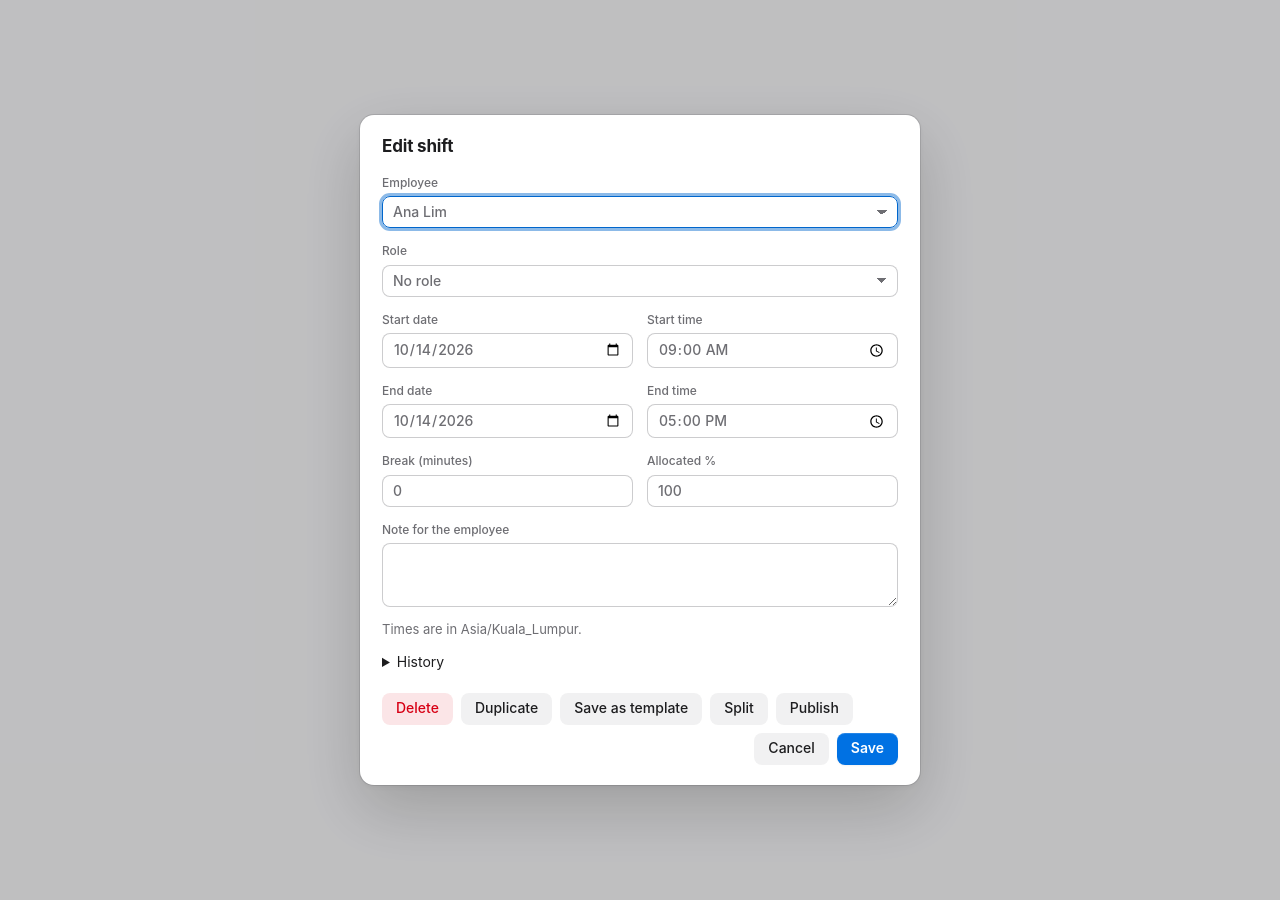
Scenario: ShiftDialog › saves the current shift as a template without closing the dialog
Click the button "Save as template". click: click(631, 708)
box: [560,692,702,724]
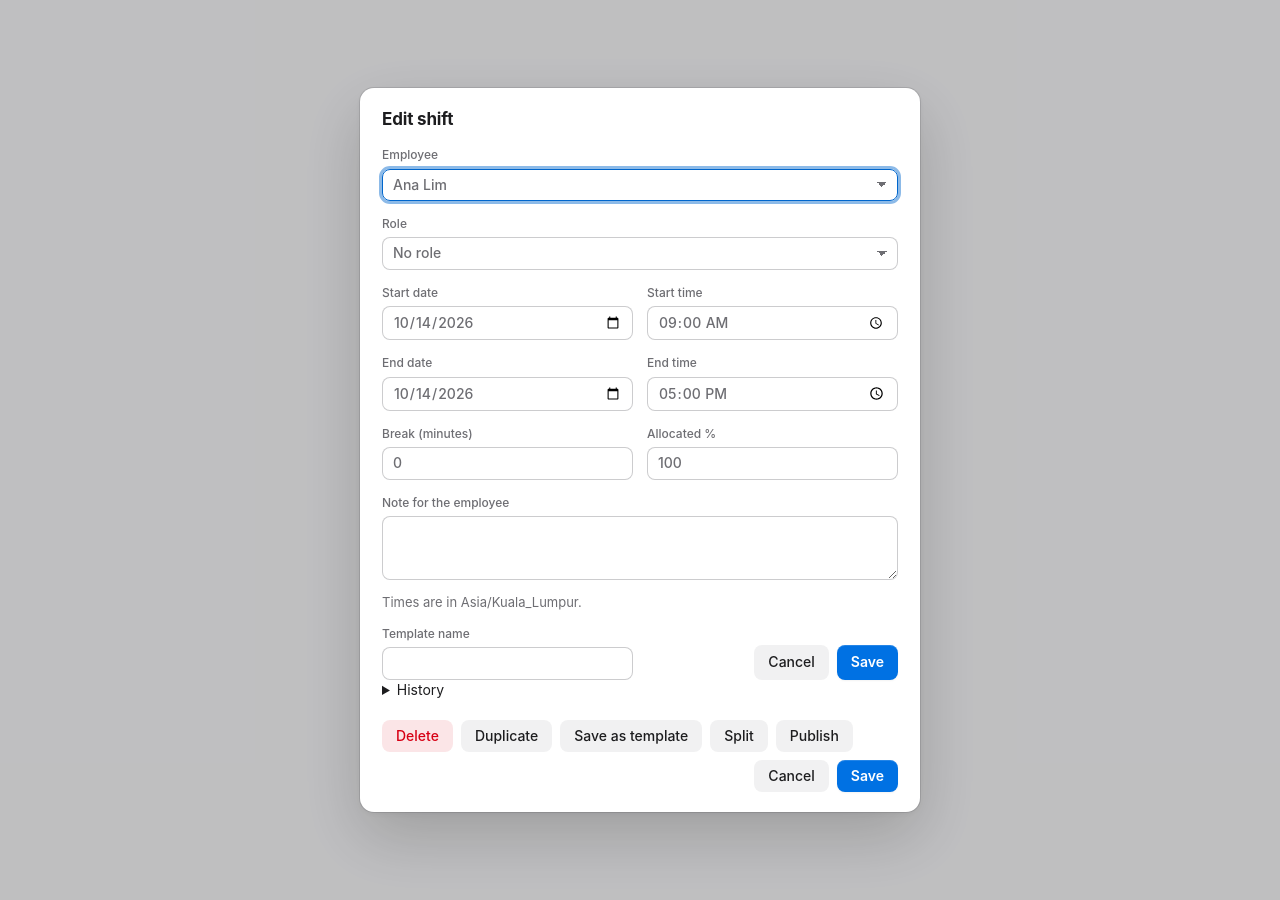
Type "My template" into the field labelled "Template name". click: (508, 663)
box: [382,647,633,680]
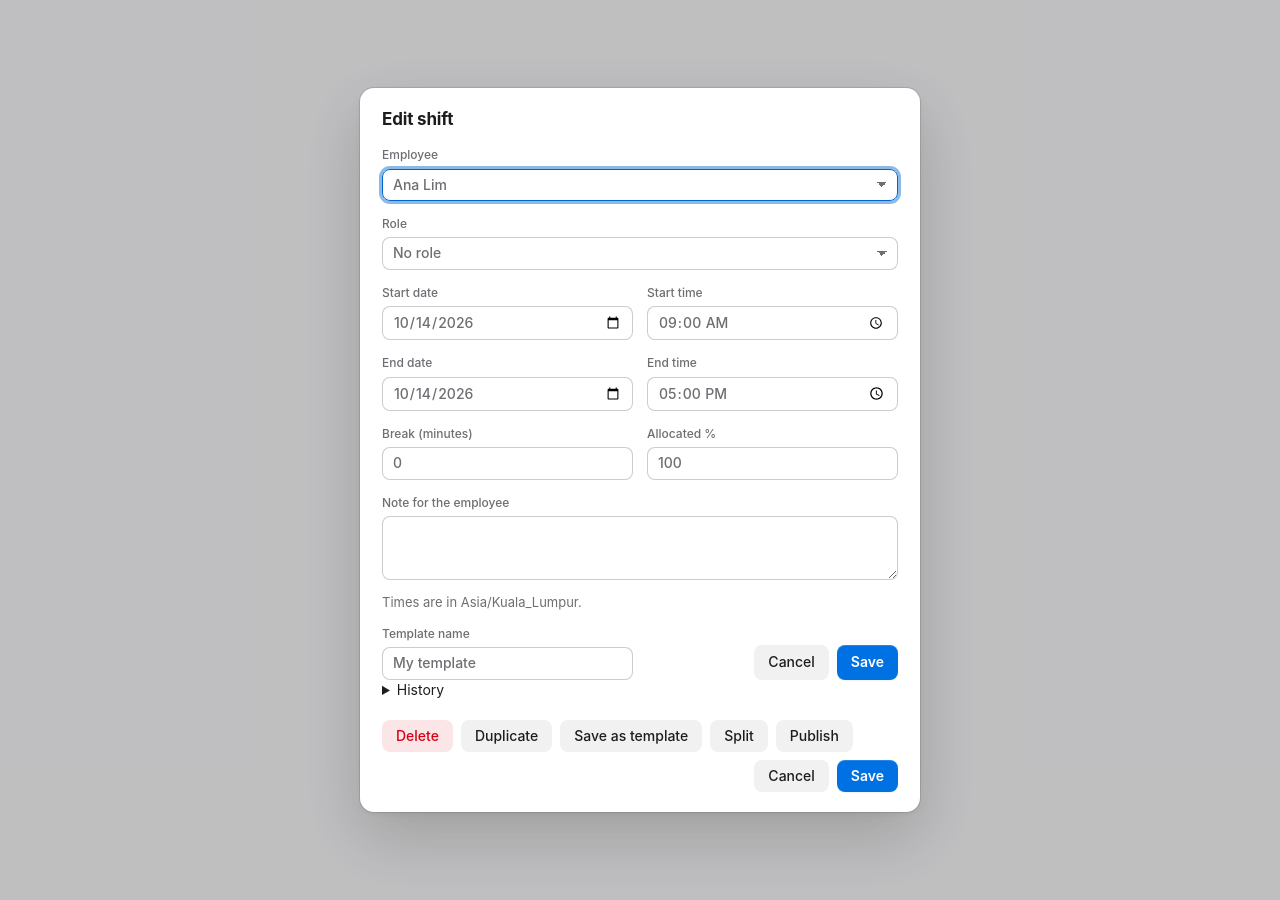
Click the 1st button "Save". click: click(867, 662)
box: [837,645,898,680]
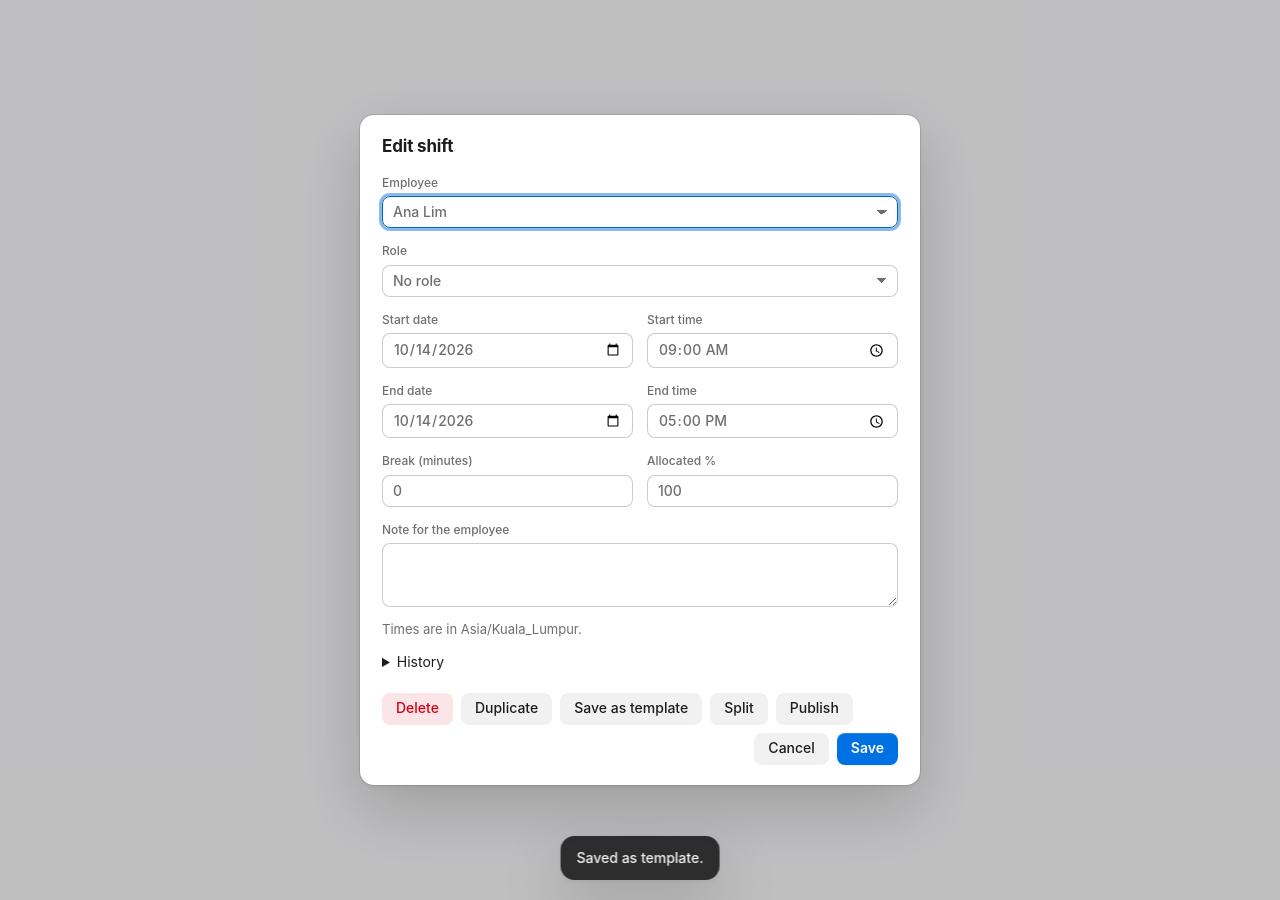
expect the text "Saved as template." is shown: met, box [576,848,703,868]
